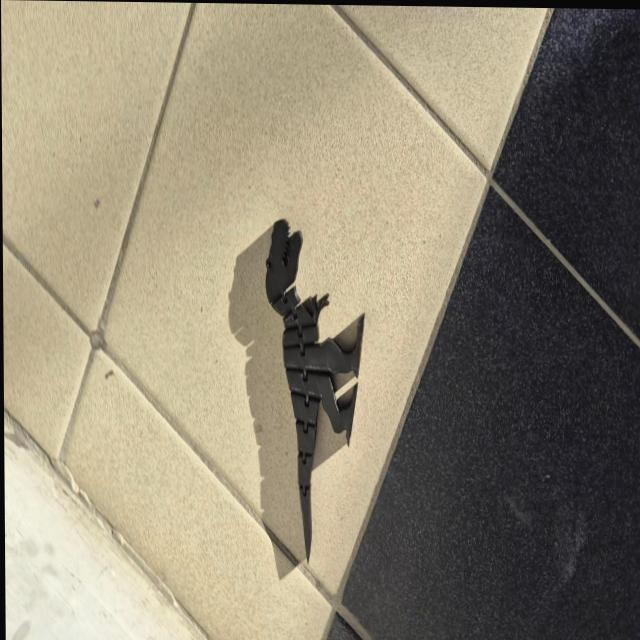dino: (263, 217, 367, 567)
